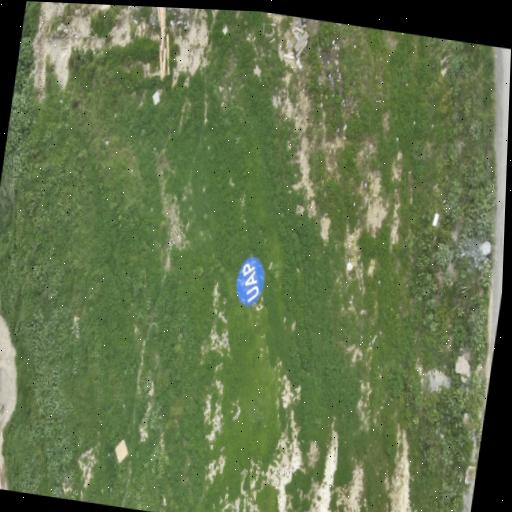uap: (235, 256, 263, 304)
